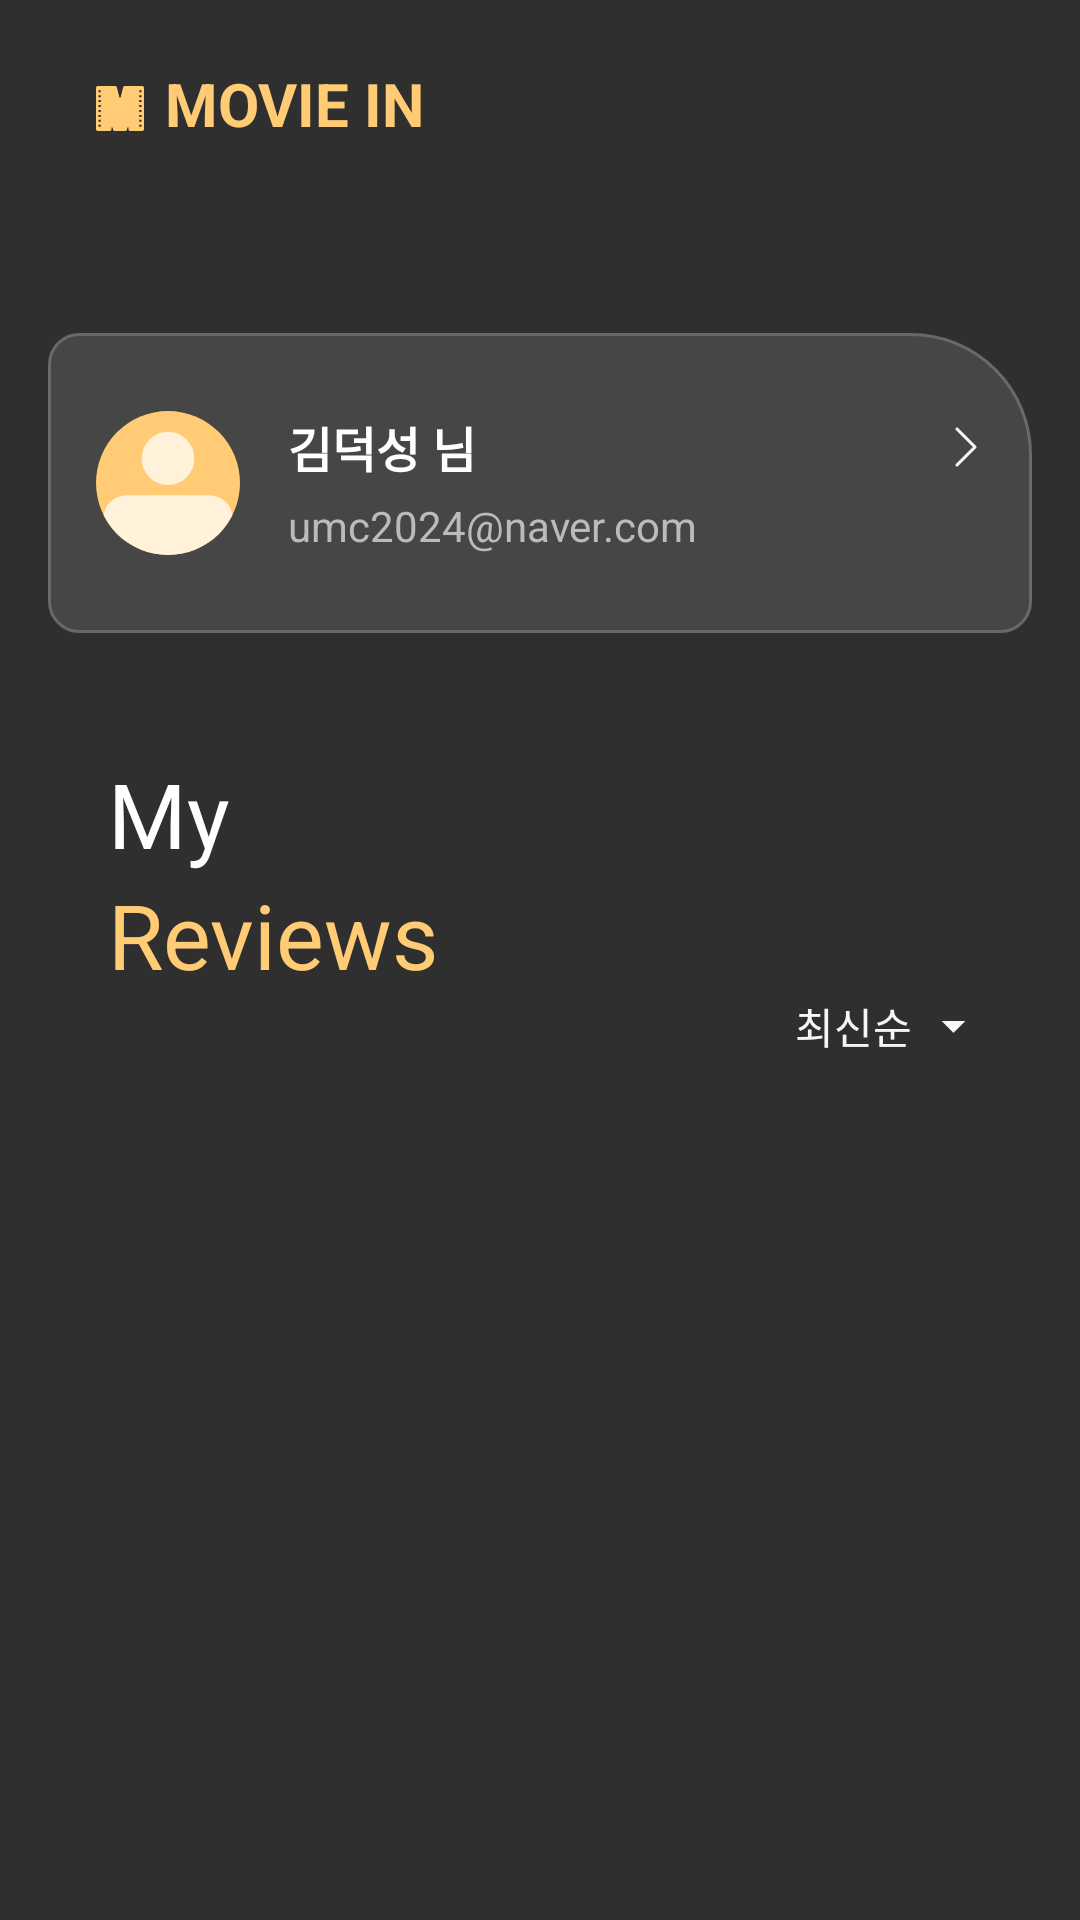

Point at icon controls on the screen. Image size 1080w x 1920h, points as (x=x, y=y).
next: (x=966, y=447)
profile: (x=168, y=483)
